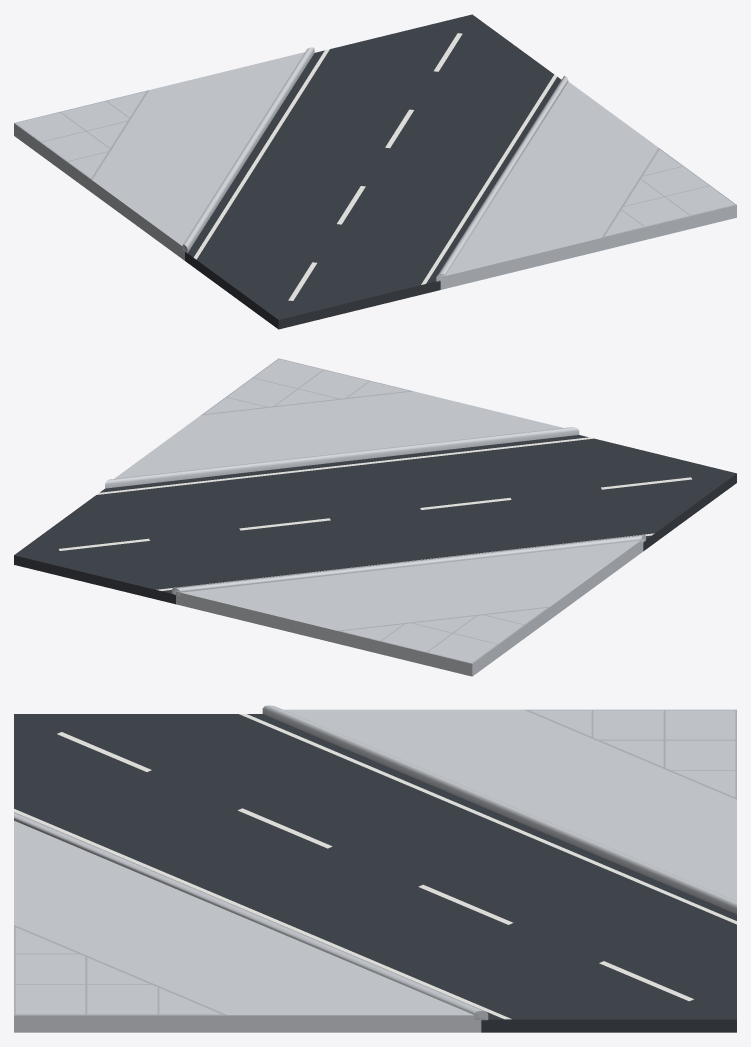
Rendered from rua_diagonal.glb.
3 views of the same model, one above another, from view 1: azimuth 30°, elevation 25°; view 2: azimuth 150°, elevation 25°; view 3: azimuth 270°, elevation 25° (orthographic). The views are drawn at different scales.
Visible parts, largest first — view 1: rua_diagonal; view 2: rua_diagonal; view 3: rua_diagonal.
Boxes of the visible parts, bbox=[...] form: rua_diagonal: bbox=[14, 14, 736, 329]; rua_diagonal: bbox=[14, 358, 736, 676]; rua_diagonal: bbox=[14, 705, 736, 1032].
Size of the model in its own units: 15 by 0.5 by 15.
Materials: 1 (1 with a texture image).
